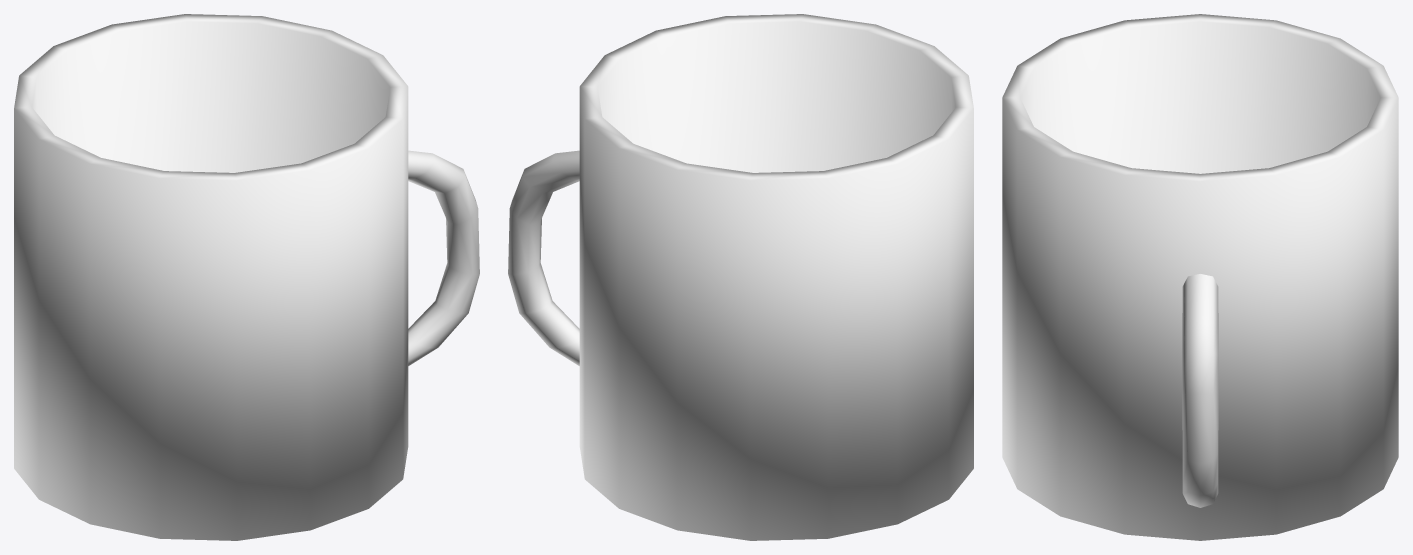
The model's file is Cup.fbx.
3 views of the same model, side by side, from view 1: azimuth 30°, elevation 25°; view 2: azimuth 150°, elevation 25°; view 3: azimuth 270°, elevation 25° (orthographic).
Parts seen in each view (by area): view 1: Cup; view 2: Cup; view 3: Cup.
Boxes of the visible parts, <box> form: Cup: <box>14,14,479,540</box>; Cup: <box>508,14,973,540</box>; Cup: <box>1002,14,1398,540</box>.
Bounding box in the file's own units: 25.48 × 20 × 20.
